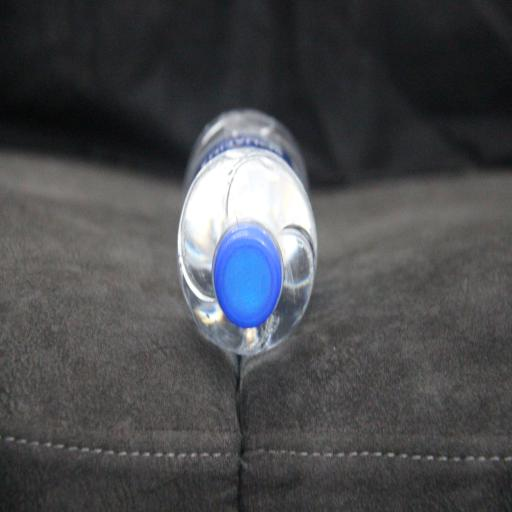Aquafina: (178, 110, 318, 360)
